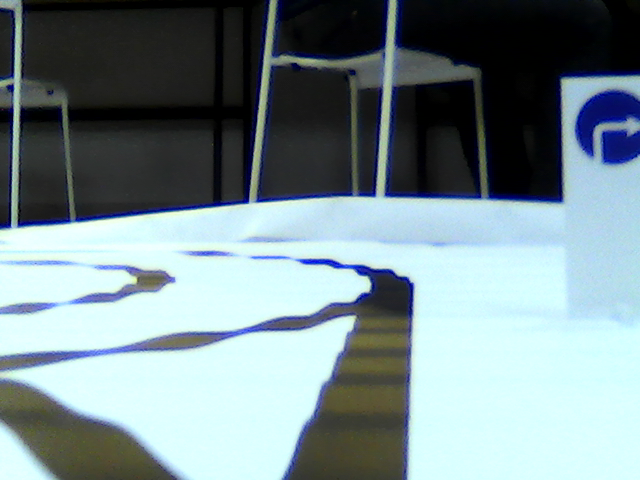Right: (575, 86, 640, 166)
